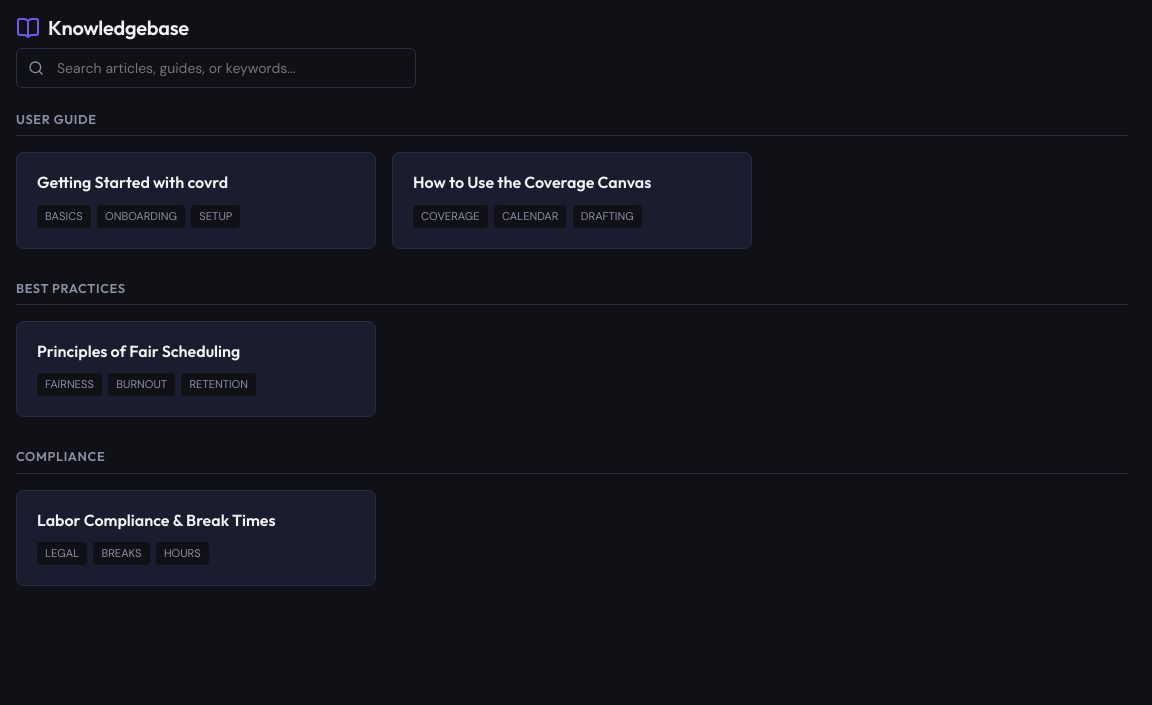
Test: KnowledgeBase › safely parses inline markdown to JSX formatting
// We navigate to an article known to have **bold** or *italic* syntax elements
Click the heading "Getting Started with covrd" at (133, 182), box [37,172,228,192]
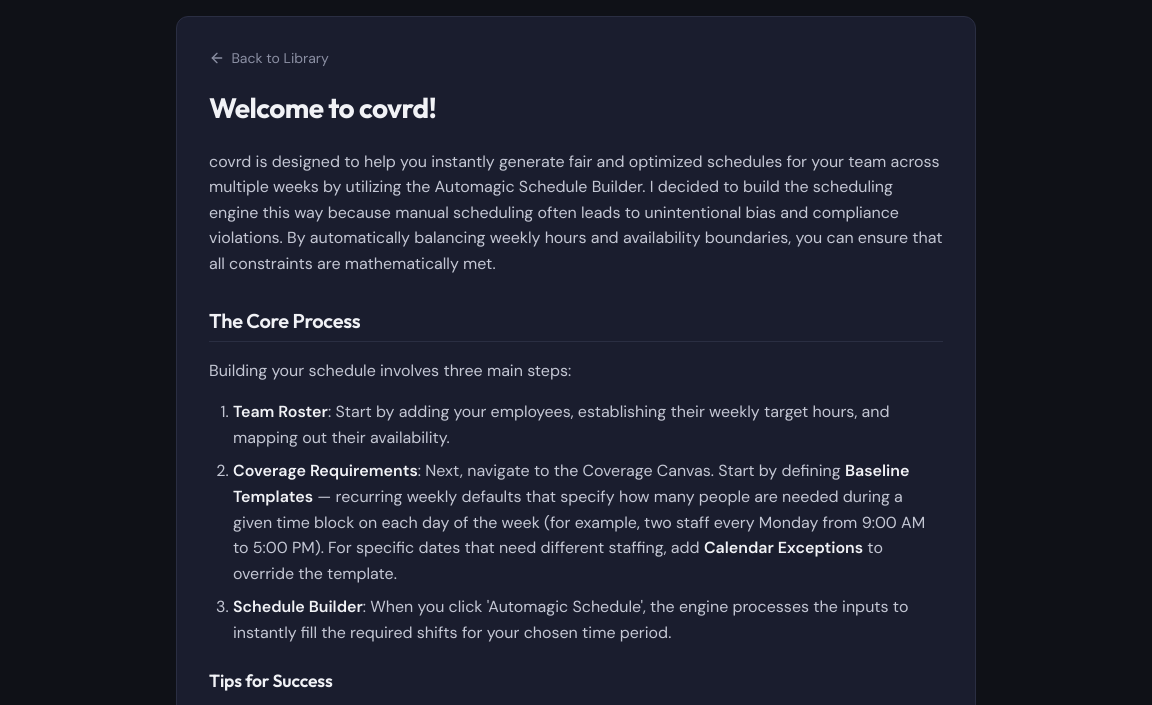
Expected: the heading "Welcome to covrd!" is shown, [209,90,436,125]
Expected: the text "Team Roster" is shown, [233,401,328,422]
